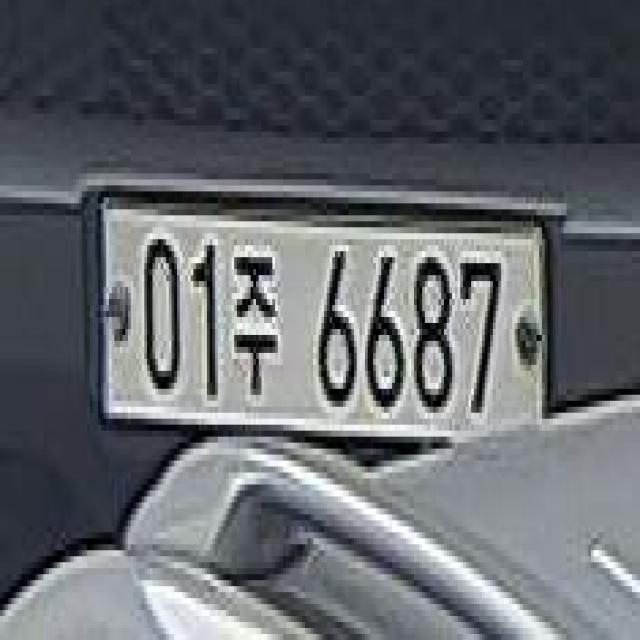illegal_plate: (93, 169, 549, 475)
